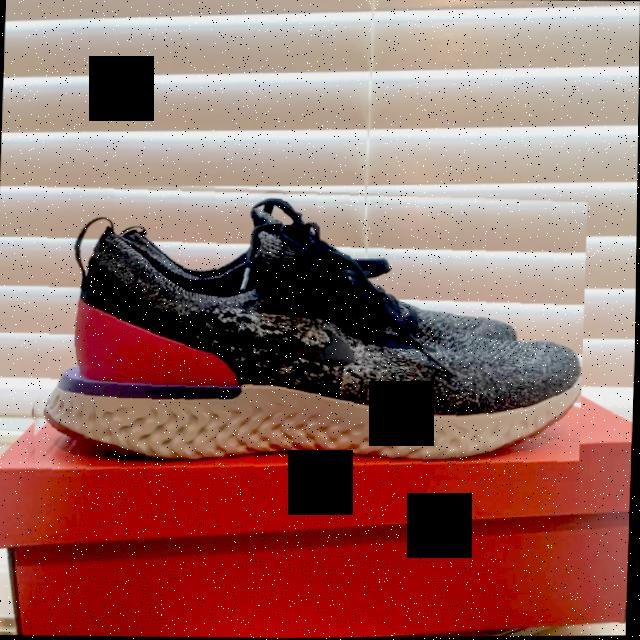shoe: (21, 177, 588, 486)
